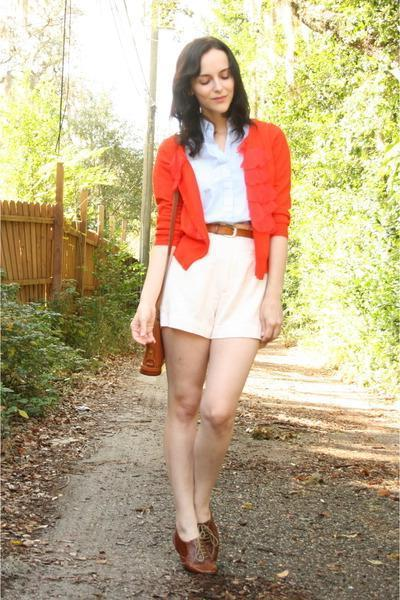Shorts: (148, 226, 288, 341)
short sleeve shirt: (186, 112, 258, 237)
sweater: (151, 118, 299, 275)
